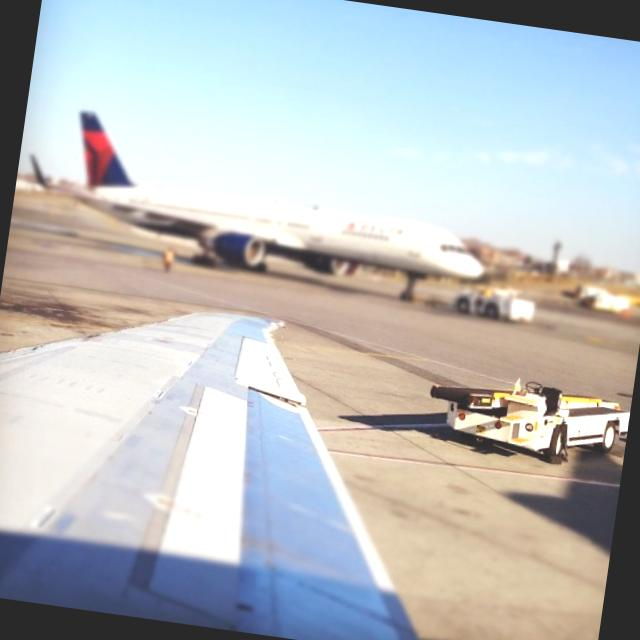Vehicle: (422, 366, 632, 474), (454, 283, 536, 324), (583, 288, 633, 316)
